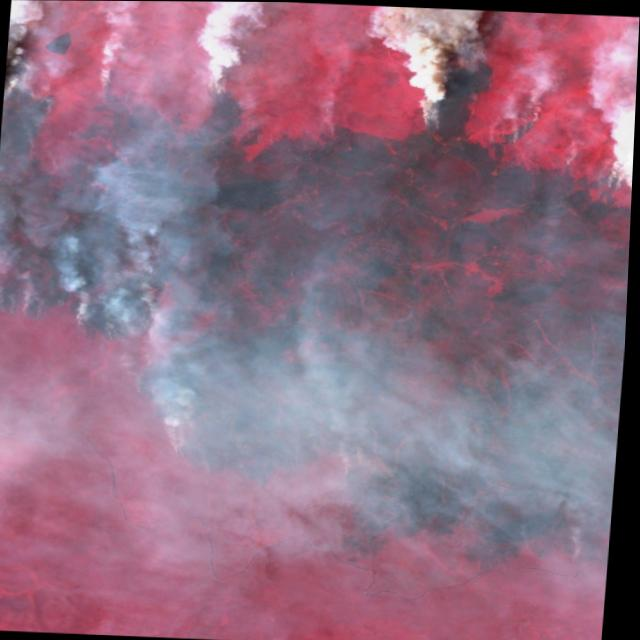fire: (0, 26, 639, 203), (130, 366, 393, 494), (0, 260, 212, 345)
